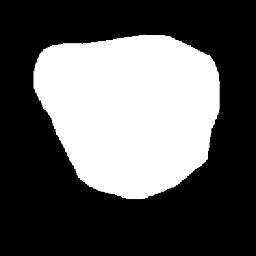mass: (46, 39, 220, 190)
